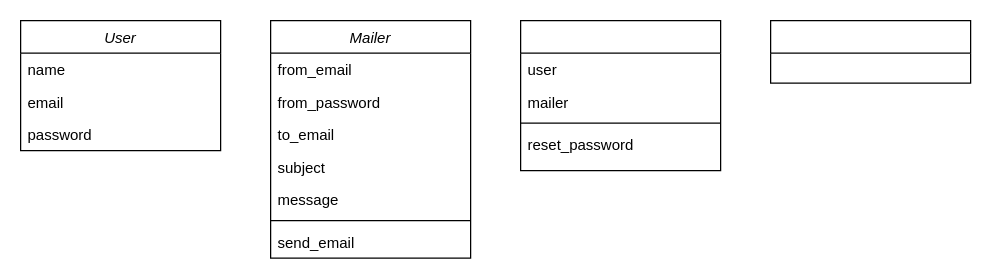
This 991x279 diagram has some shape labels left out. The box of each missing label's shape, as (x1, y1, x2, y2) in pixels:
EmailNotFoundError: (769, 19, 971, 83)
UserService: (519, 19, 721, 171)
